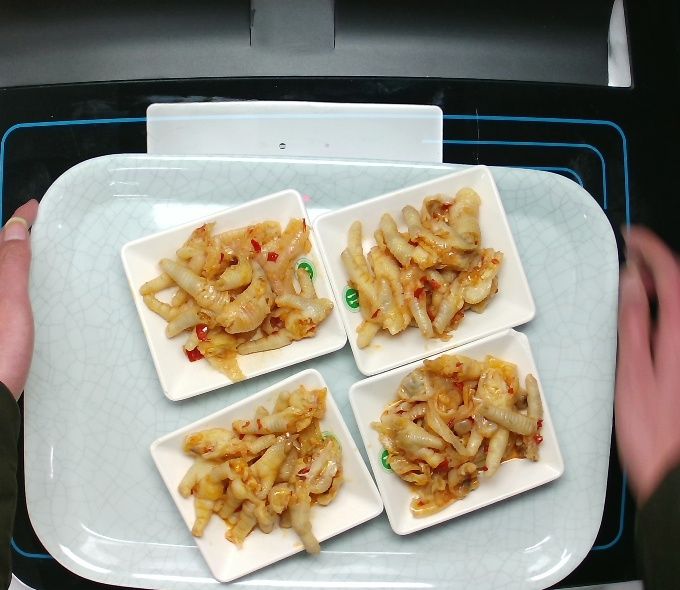wcq-LuJiZhua: (139, 205, 338, 385), (170, 374, 351, 567), (329, 170, 513, 352), (361, 349, 549, 525)
